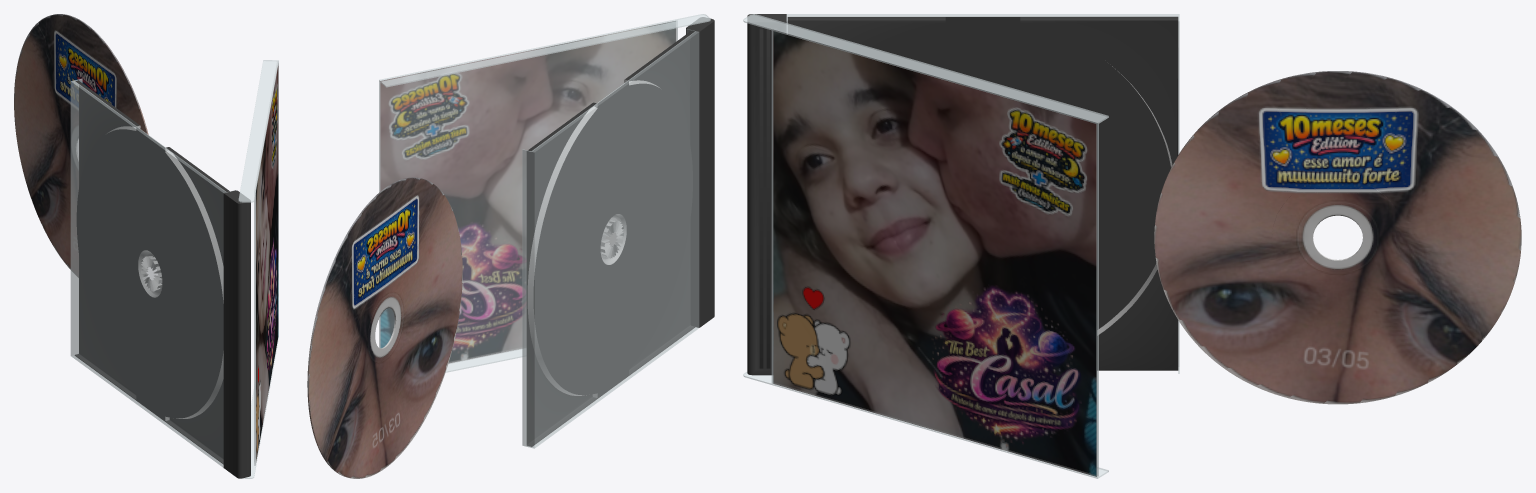
Rendered from LOVEatualizacao.glb.
The picture shows the model from 3 angles, left to right: view 1: azimuth 30°, elevation 25°; view 2: azimuth 150°, elevation 25°; view 3: azimuth 270°, elevation 25°; orthographic projection. The views are drawn at different scales.
Parts seen in each view (by area): view 1: Case Back_2, CD_1, Case Front_0; view 2: Case Back_2, Case Front_0, CD_1; view 3: Case Front_0, CD_1, Case Back_2.
Part boxes in pixels (x1=…): Case Back_2: x1=70, y1=78, x2=250, y2=478; CD_1: x1=14, y1=14, x2=148, y2=277; Case Front_0: x1=238, y1=60, x2=278, y2=478; Case Back_2: x1=522, y1=17, x2=714, y2=448; Case Front_0: x1=379, y1=14, x2=710, y2=372; CD_1: x1=307, y1=177, x2=462, y2=478; Case Front_0: x1=743, y1=14, x2=1108, y2=478; CD_1: x1=1154, y1=71, x2=1521, y2=404; Case Back_2: x1=747, y1=14, x2=1179, y2=375.
Size of what is drawn, in the model's own units: 1.33 by 2 by 3.96.
7 materials, 3 textured.
